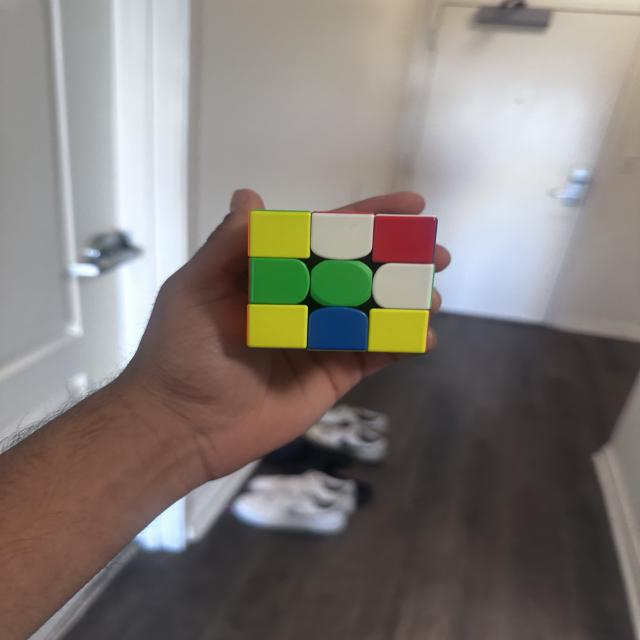sticker: (370, 213, 440, 267), (246, 208, 314, 262), (306, 210, 375, 263), (308, 258, 375, 308), (370, 261, 436, 311), (249, 257, 311, 306), (247, 302, 310, 350), (366, 307, 429, 355), (308, 306, 372, 352)
